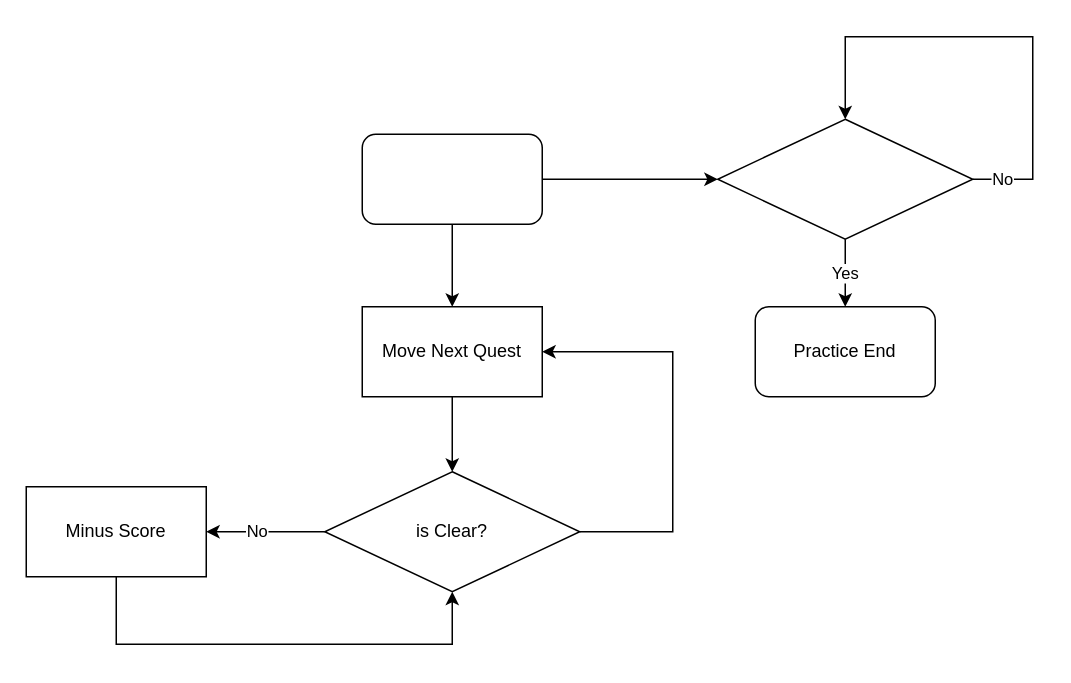
This 1071x683 diagram has some shape labels left out. Here are the shapes that lost their labels. From the top down, the centre of each, then its label:
pixel 451 178: Practice Start
pixel 844 178: Push "Done" Button?
